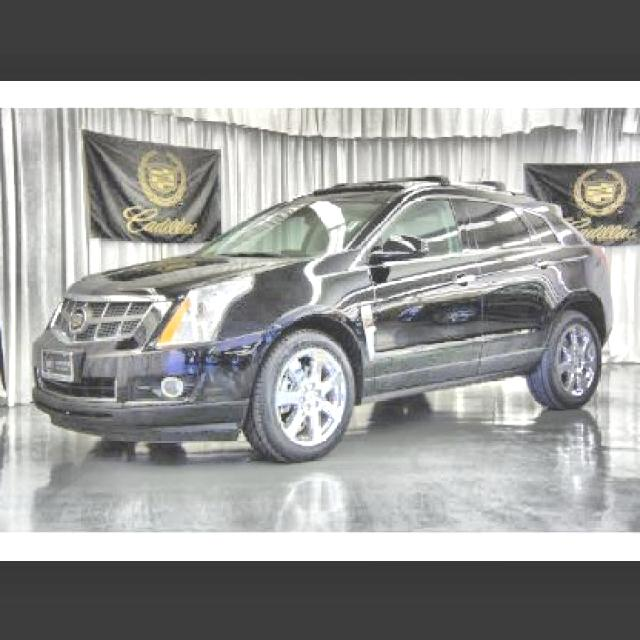black: (32, 174, 613, 447)
